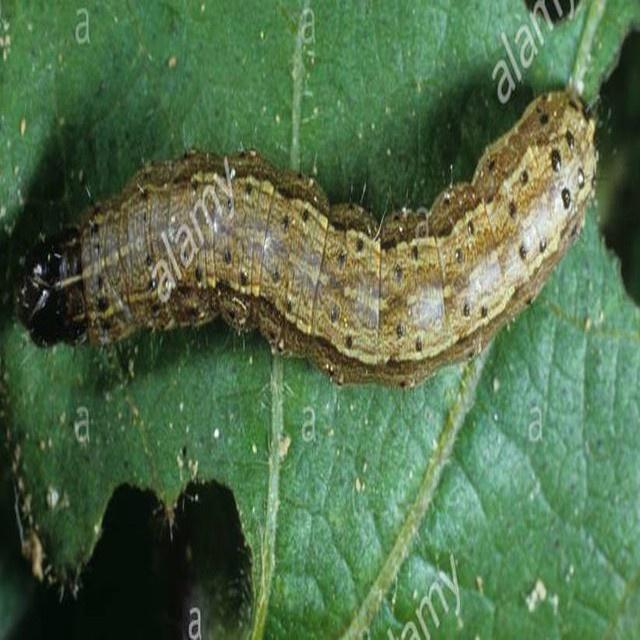gusano_cogollero: (19, 85, 592, 387)
